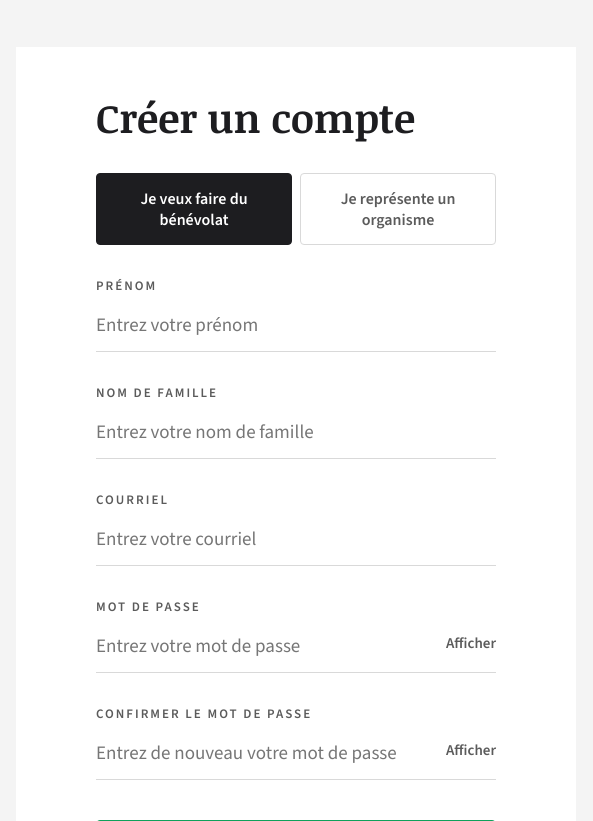
Test: the message follows the page language
Step 1. Type "Amy" into the field with placeholder "Entrez votre prénom" → (296, 325), box x1=96 y1=298 x2=496 y2=352
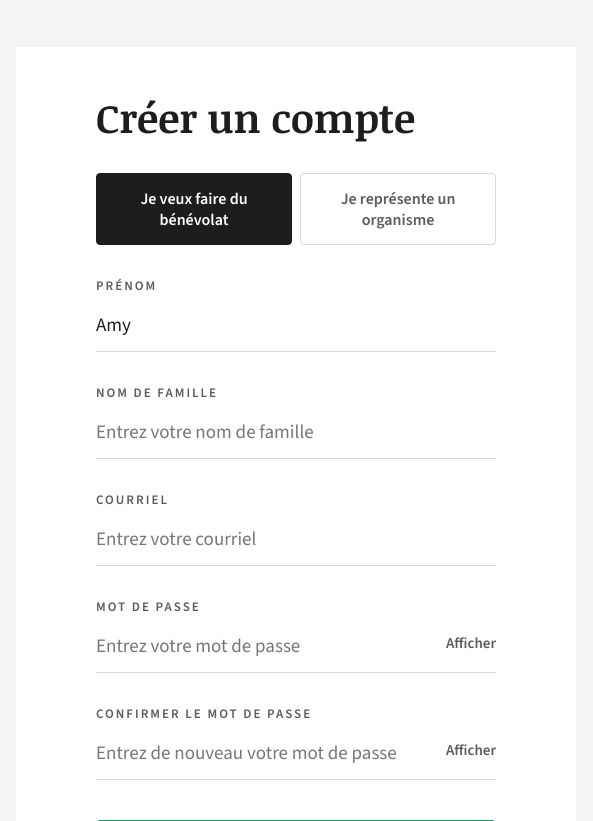
Step 2. Type "Lee" into the field with placeholder "Entrez votre nom de famille" → (296, 432), box x1=96 y1=405 x2=496 y2=459
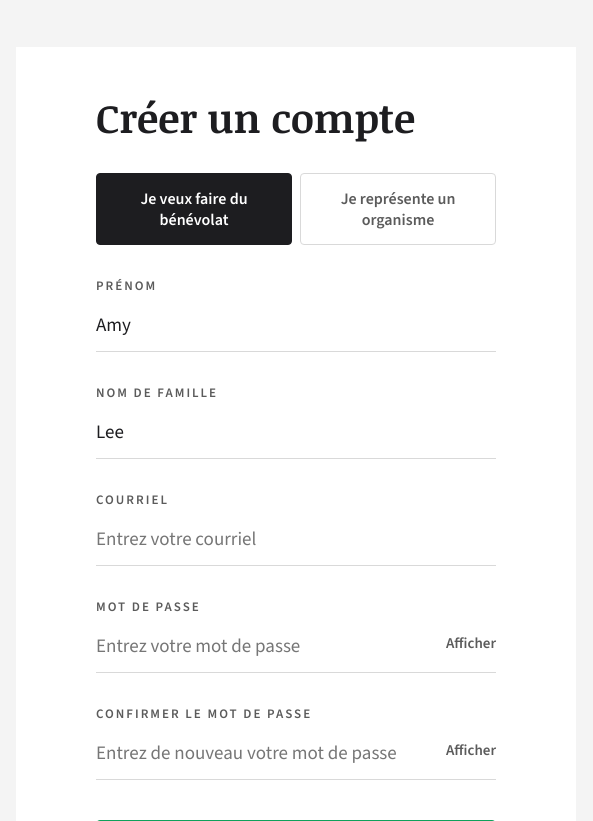
Step 3. Type "amy@example.test" into the field with placeholder "Entrez votre courriel" → (296, 539), box x1=96 y1=512 x2=496 y2=566
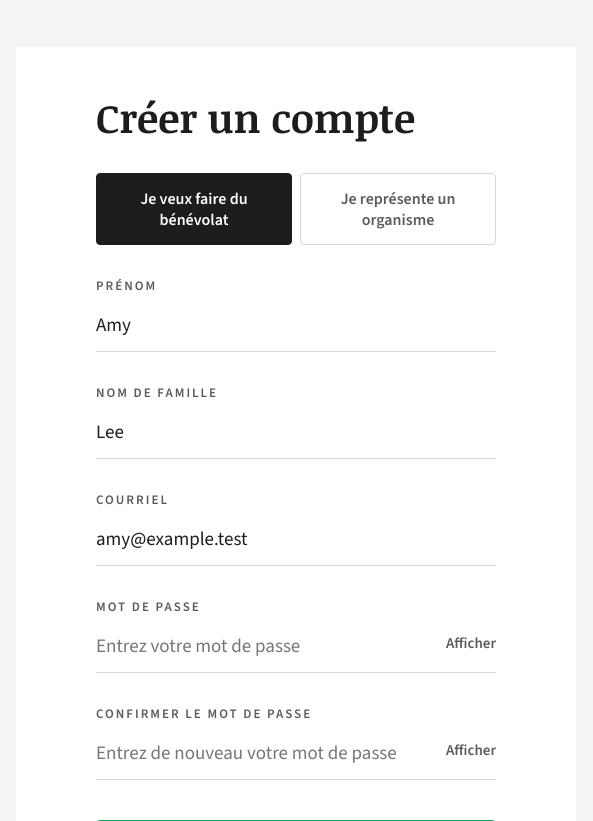
Step 4. Type "AmyPass123" into the password field with placeholder "Entrez votre mot de passe" → (296, 646), box x1=96 y1=619 x2=496 y2=673
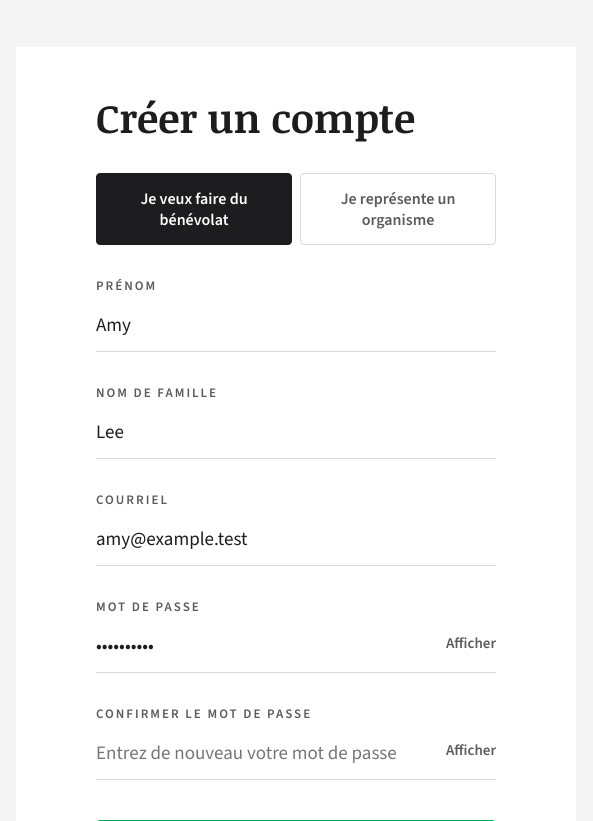
Step 5. Type "AmyPass123" into the password field with placeholder "Entrez de nouveau votre mot de passe" → (296, 753), box x1=96 y1=726 x2=496 y2=780
(page scrolled)
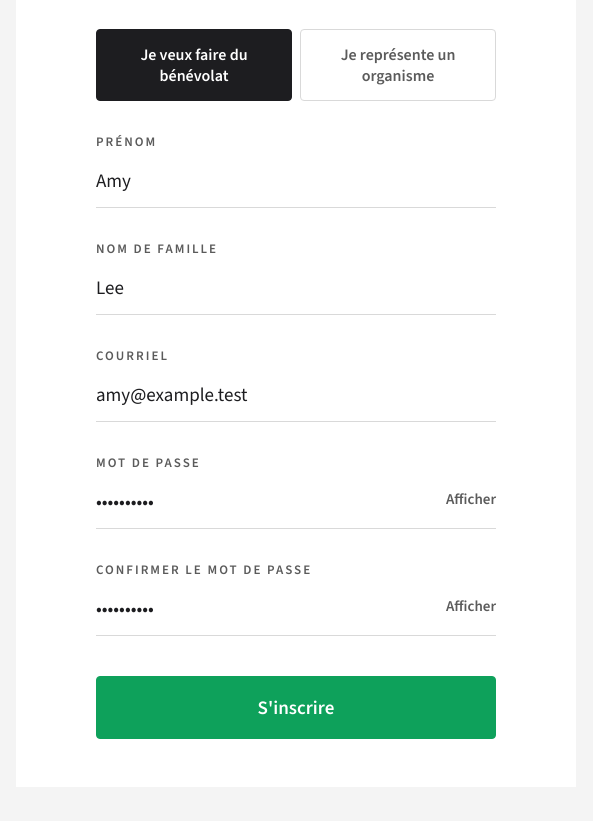
Step 6. Click the button "S'inscrire" → (296, 708), box x1=96 y1=676 x2=496 y2=739
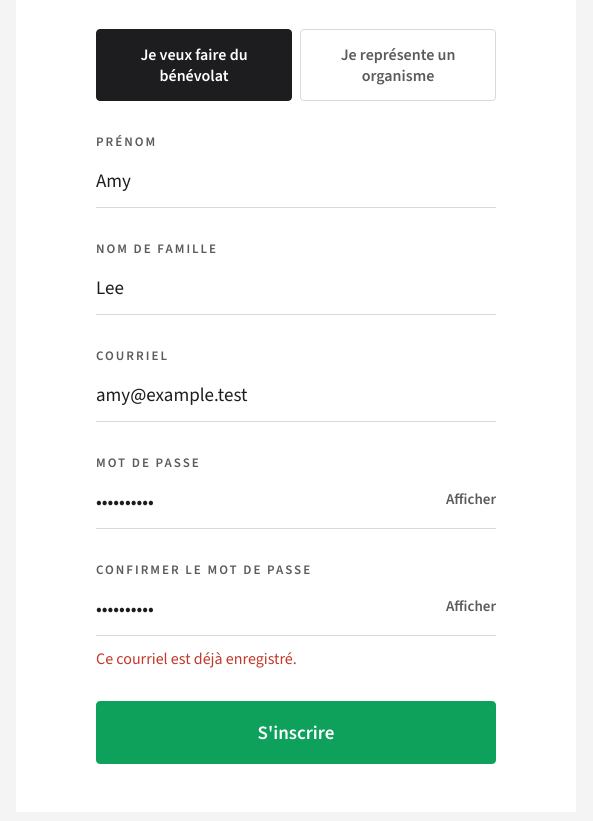
Check: the text "Ce courriel est déjà enregistré." is shown, box x1=96 y1=648 x2=297 y2=669
